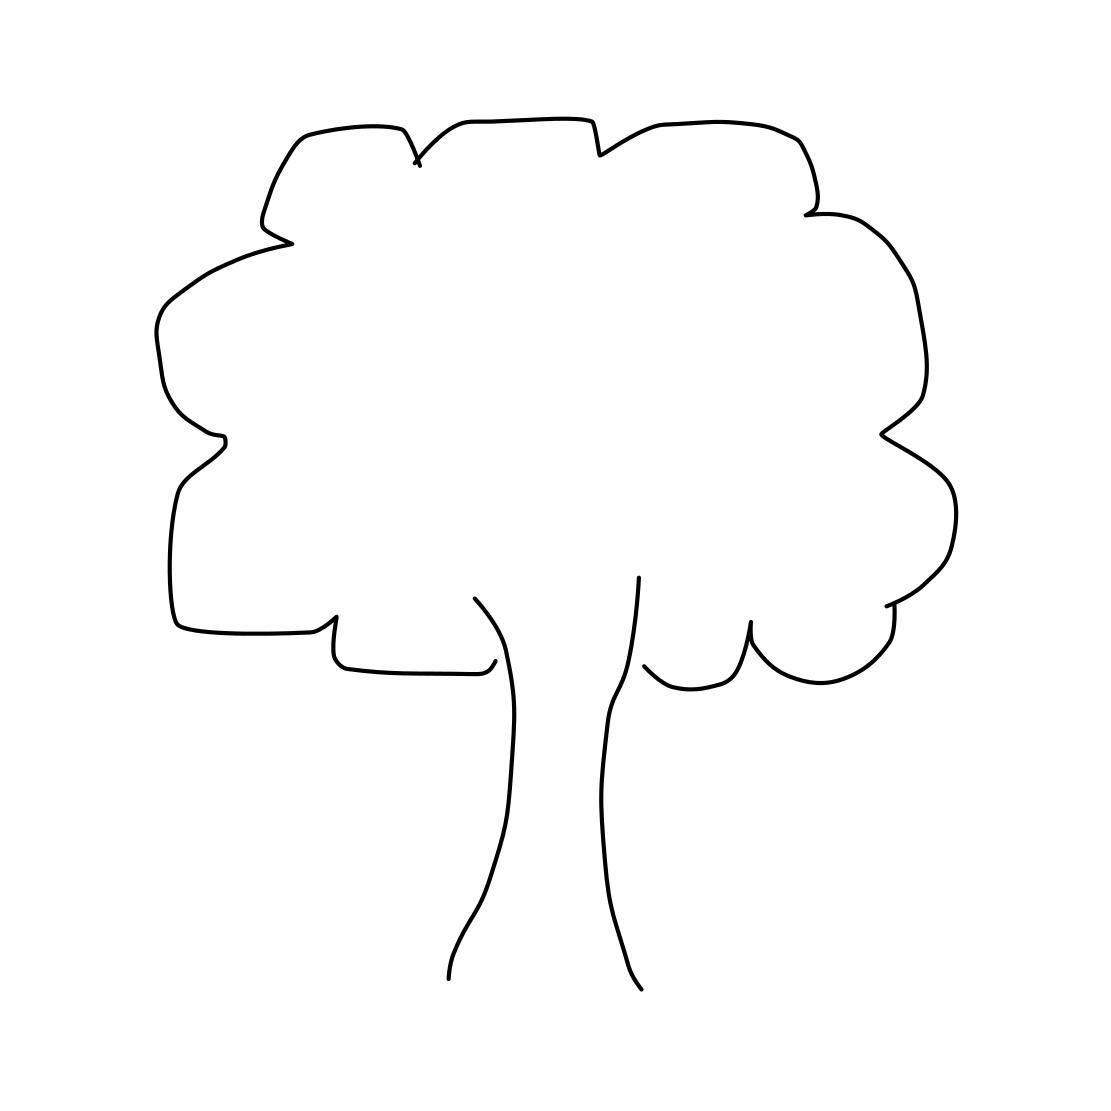Tree: (118, 74, 1002, 1002)
